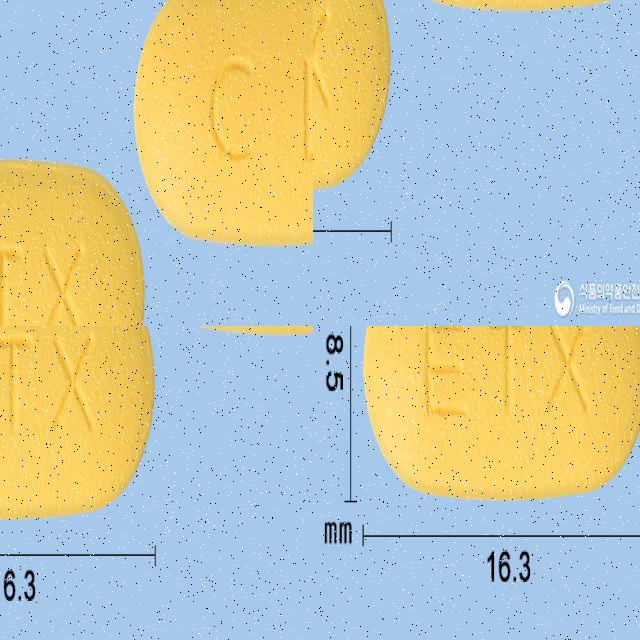Clacin -500mg: (0, 348, 210, 636)
Clarosin: (361, 326, 640, 502)
Clearmycin - 250mg: (313, 26, 515, 306), (601, 26, 640, 304)
Clozex: (142, 0, 313, 326), (0, 0, 99, 326)
